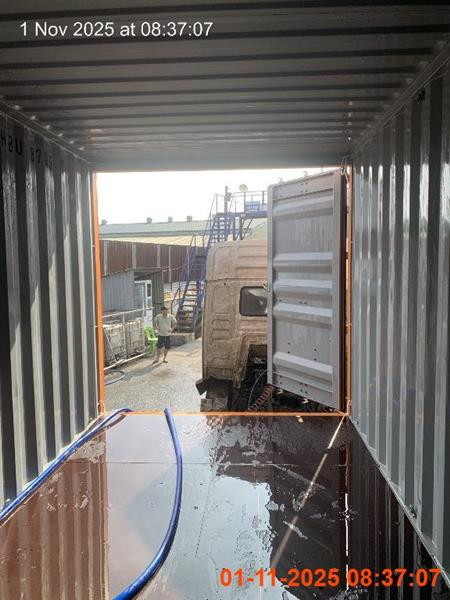broken: (152, 306, 177, 364)
